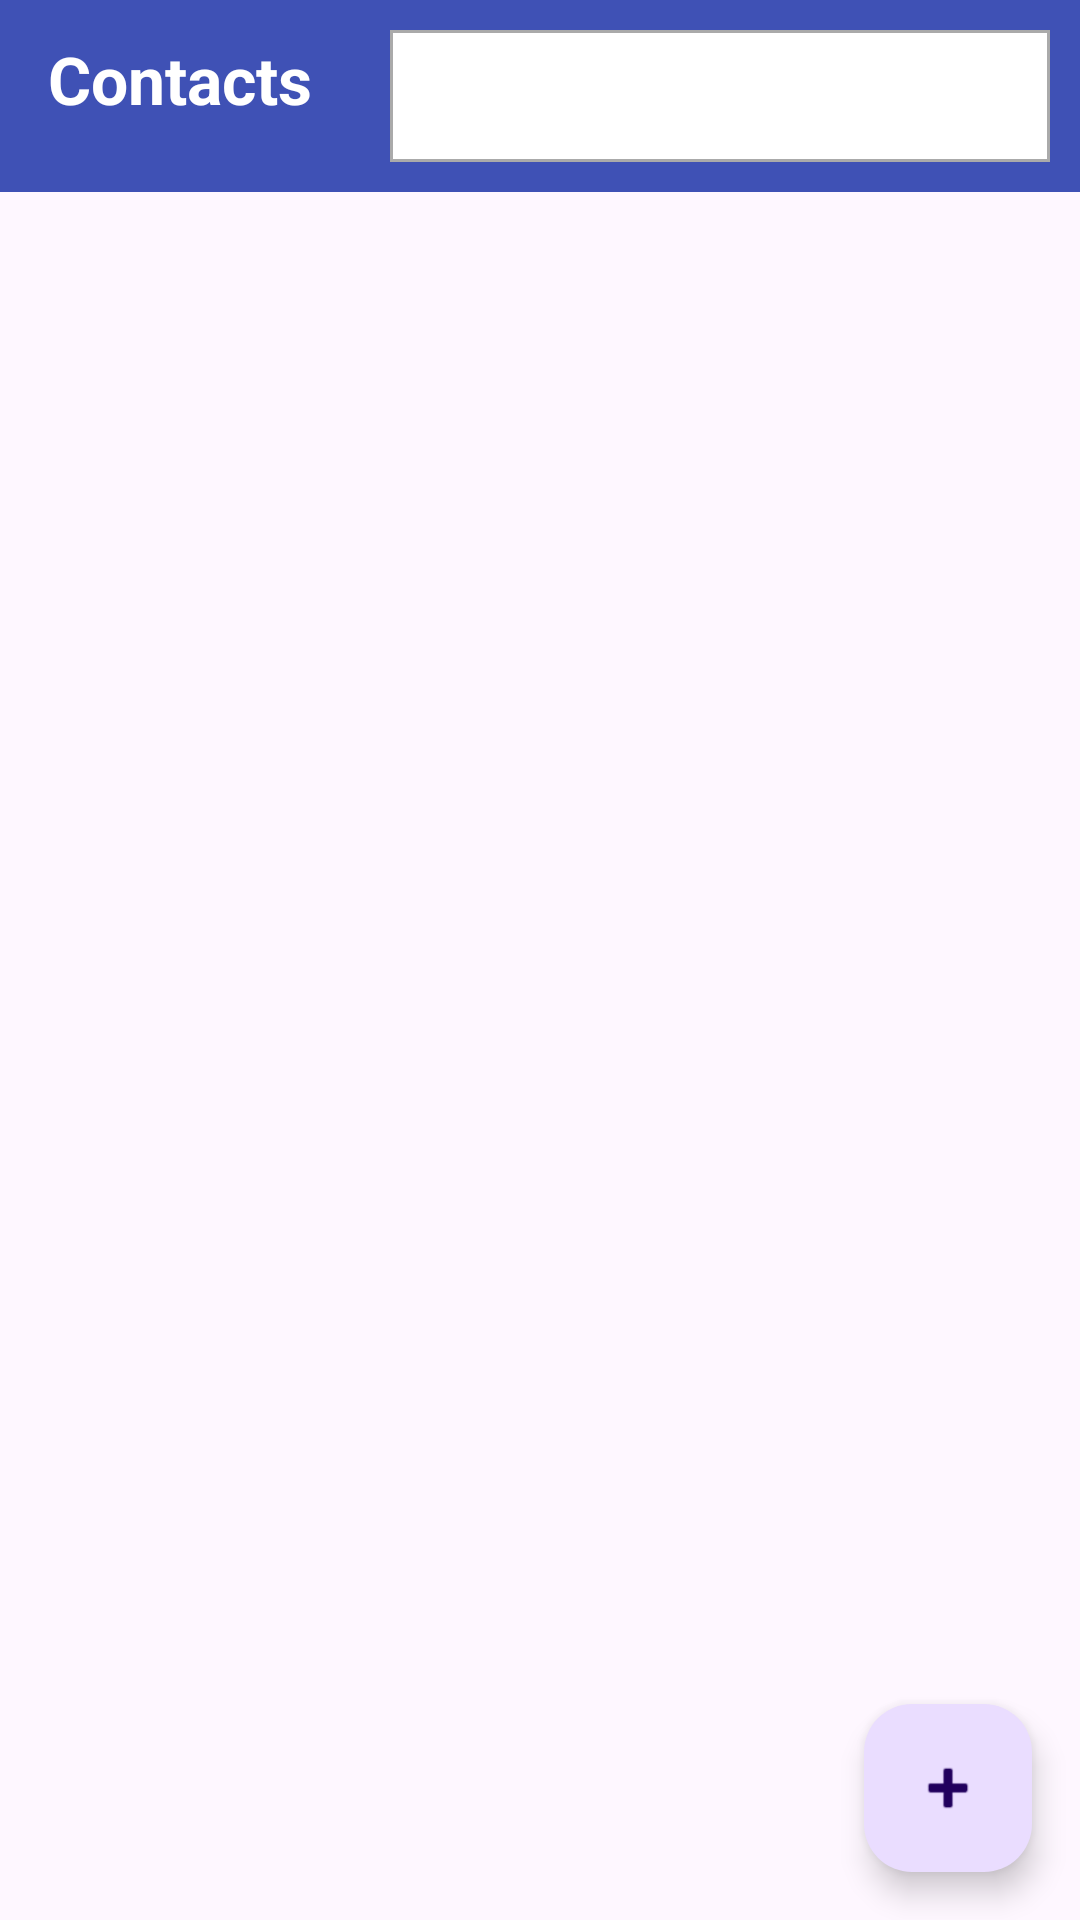

Icons on this 1080px×1920px Android screen, each with the point to tap as (x,y):
Add Contact: (948,1788)
